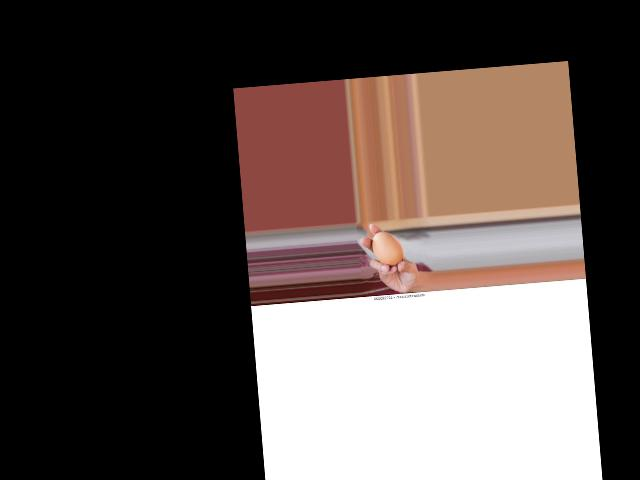egg: (370, 230, 403, 267)
